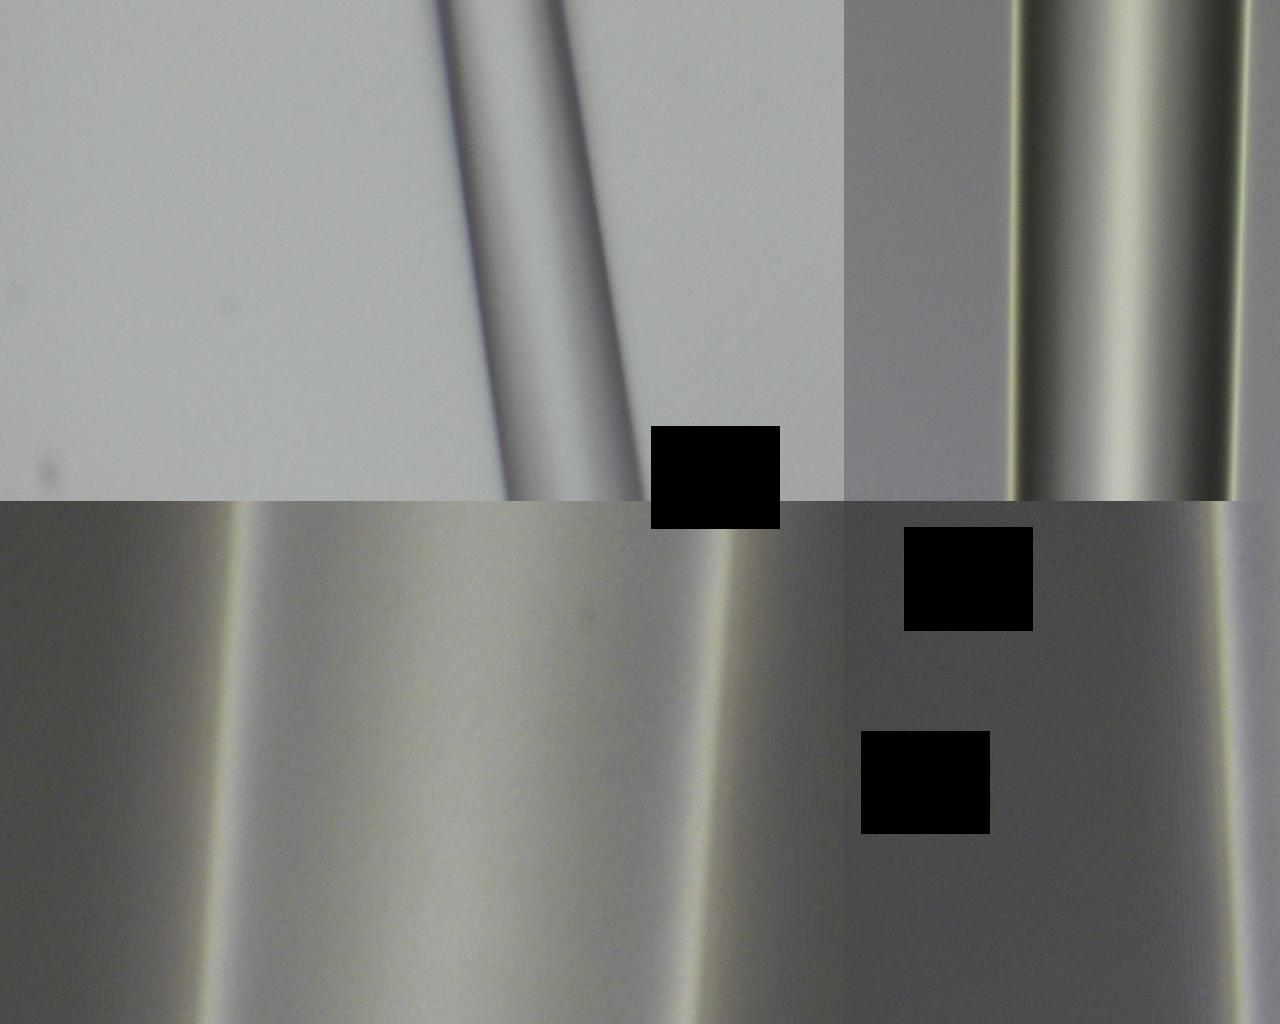fiber: (0, 488, 362, 1024), (729, 264, 1280, 419), (0, 342, 729, 394)
